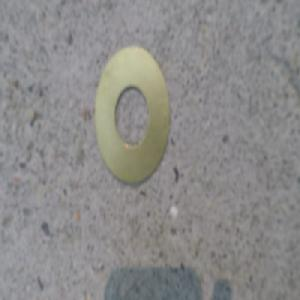Washer: (93, 45, 172, 184)
